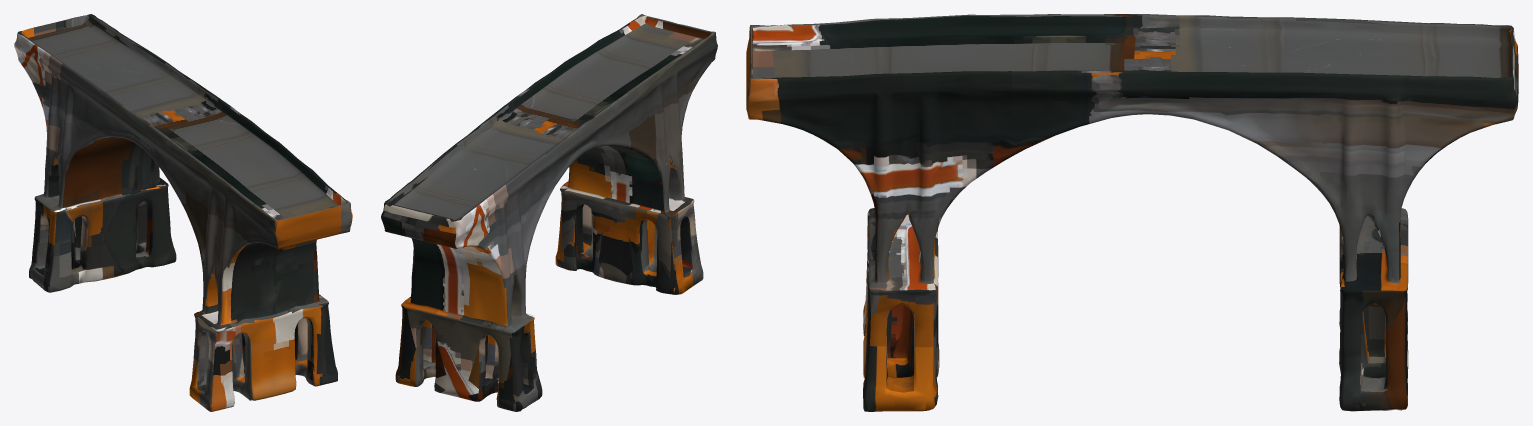
Rendered from Bridge.fbx.
The picture shows the model from 3 angles, left to right: view 1: azimuth 30°, elevation 25°; view 2: azimuth 150°, elevation 25°; view 3: azimuth 270°, elevation 25°; orthographic projection. The views are drawn at different scales.
Parts seen in each view (by area): view 1: model.006; view 2: model.006; view 3: model.006.
Boxes of the visible parts, x1,y1,x2,y2 form: model.006: (14,14,352,411); model.006: (381,14,717,411); model.006: (746,14,1518,411).
Size of the model in its own units: 53.82 by 87.69 by 190.
